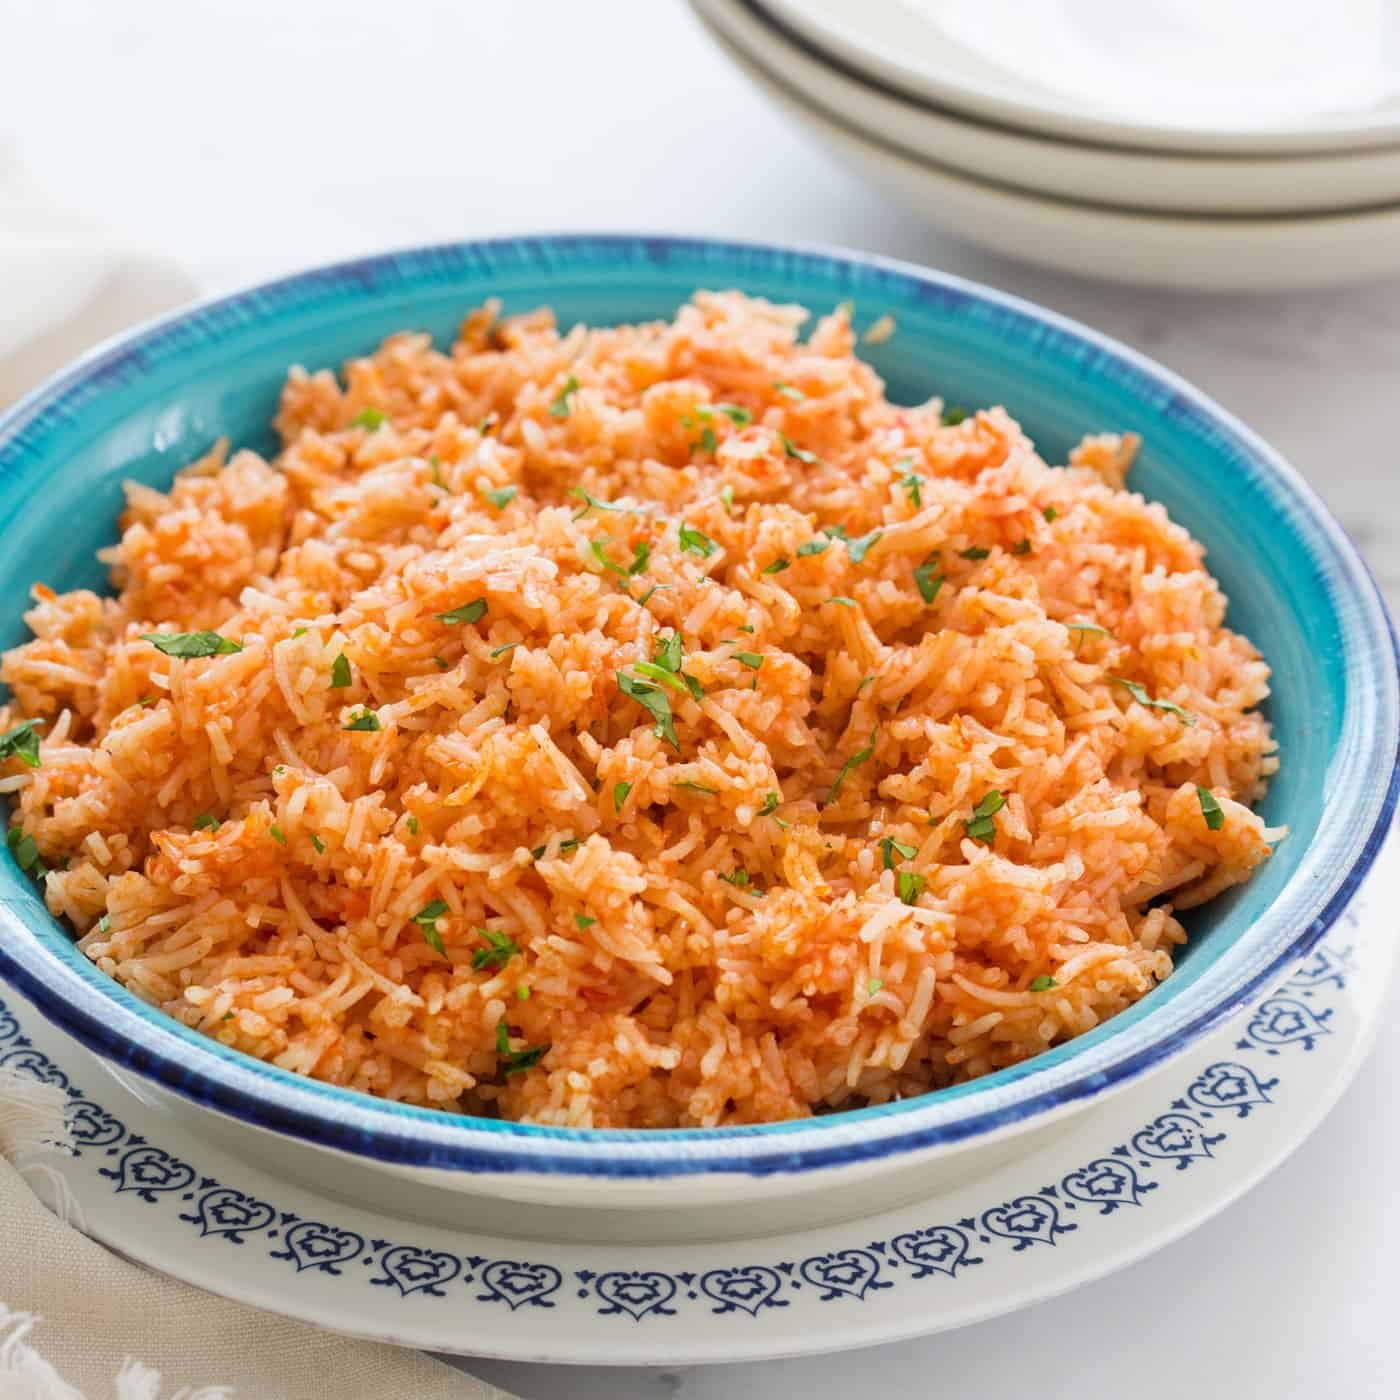Nasi Merah: (1, 237, 1281, 1155)
